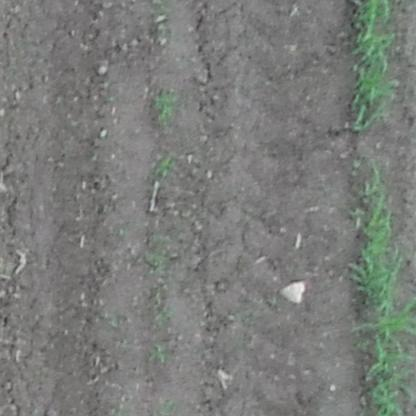corn: (356, 157, 412, 413), (349, 1, 404, 134), (149, 83, 180, 130), (152, 150, 180, 181)
